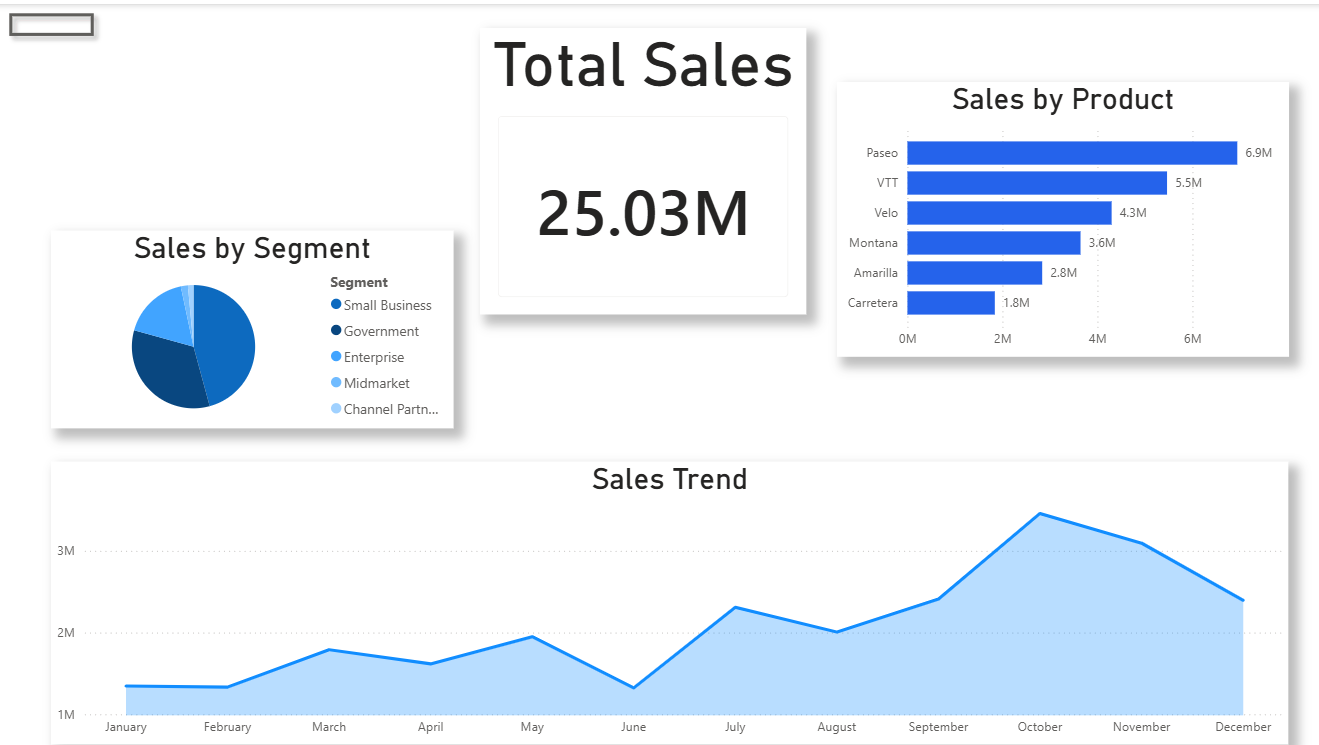

Layout of this report page (visuals, bound fields, positions):
{"tool":"powerbi","page":{"name":"Country Details ","canvas":[1280,720],"ordinal":2},"visuals":[{"type":"cardVisual","title":"Total Sales","fields":{"Data":["Sum(financials.Sales)"]},"box":[465.5,23.2,316.4,278.3],"z":0},{"type":"barChart","title":" Sales by Product","fields":{"Category":["financials.Product"],"Y":["Sum(financials.Sales)"]},"box":[811.7,76.2,439,266.7],"z":1000},{"type":"pieChart","title":" Sales by Segment","fields":{"Category":["financials.Segment"],"Y":["Sum(financials.Sales)"]},"box":[49.7,220.3,390.9,192.2],"z":2000},{"type":"lineChart","title":" Sales Trend","fields":{"Category":["financials.Month Name"],"Y":["Sum(financials.Sales)"]},"box":[49.7,443.9,1200.9,275],"z":3000},{"type":"actionButton","box":[0,0,100,40],"z":4000}]}

Visuals, with their boxes in screenshot pixels (x1, y1, x2, y2), scaled from the page's 1280x720 canvas onto the 1319x745 screenshot:
"Total Sales" cardVisual: 480, 24, 806, 312
" Sales by Product" barChart: 836, 79, 1289, 355
" Sales by Segment" pieChart: 51, 228, 454, 427
" Sales Trend" lineChart: 51, 459, 1289, 744
actionButton: 0, 0, 103, 41
